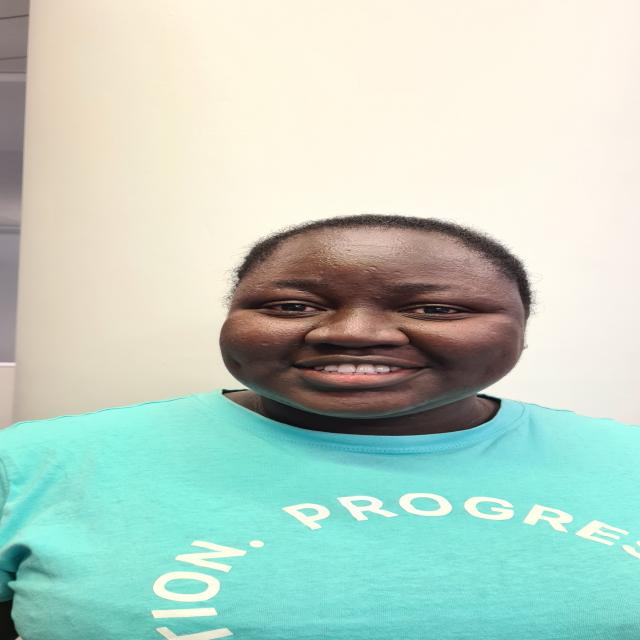happy: (212, 208, 545, 434)
